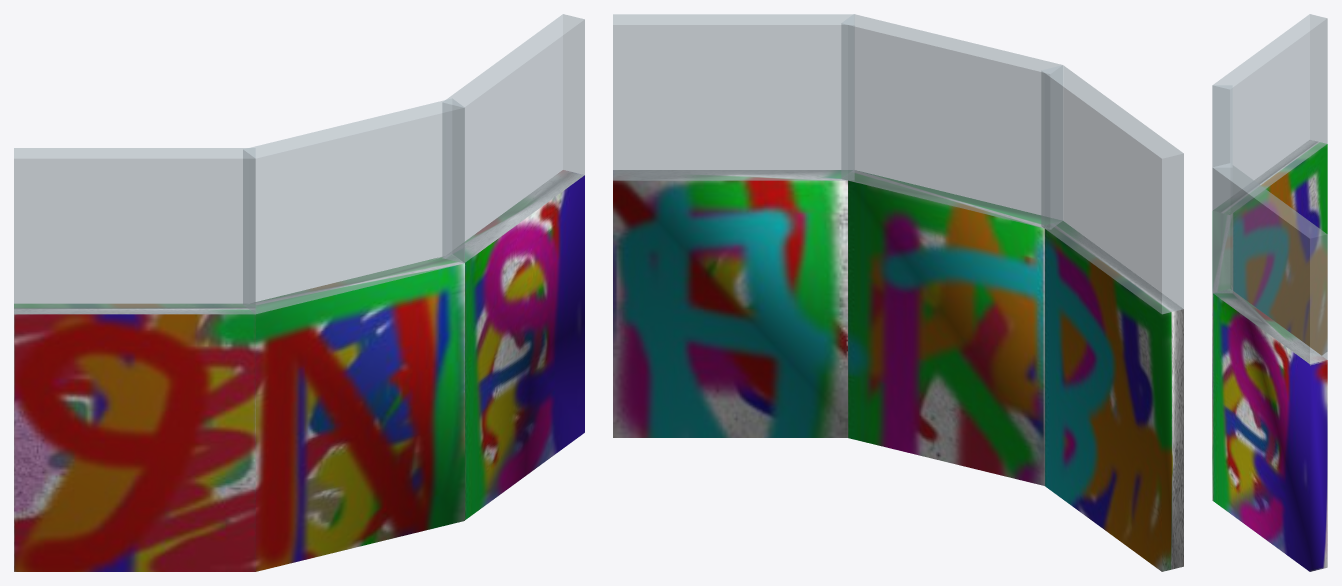
File: barricade.glb
3 renders of one model, left to right at view 1: azimuth 30°, elevation 25°; view 2: azimuth 150°, elevation 25°; view 3: azimuth 270°, elevation 25°, orthographic. The views are drawn at different scales.
Parts seen in each view (by area): view 1: Cube.002, Cube.004; view 2: Cube.002, Cube.004; view 3: Cube.002, Cube.004.
Boxes of the visible parts, x1,y1,x2,y2 form: Cube.002: (14, 170, 584, 571); Cube.004: (14, 14, 584, 314); Cube.002: (613, 170, 1183, 571); Cube.004: (613, 14, 1183, 314); Cube.002: (1212, 140, 1327, 571); Cube.004: (1212, 14, 1327, 363).
Bounding box in the file's own units: 5.46 × 3.78 × 1.18.
2 materials, 1 textured.
